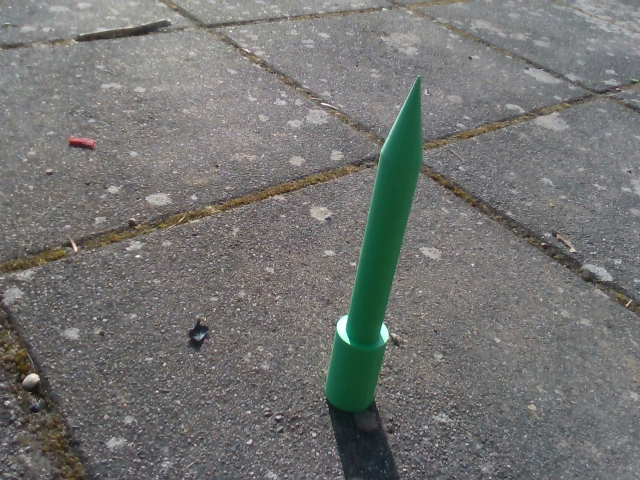Probe: (317, 64, 436, 420)
